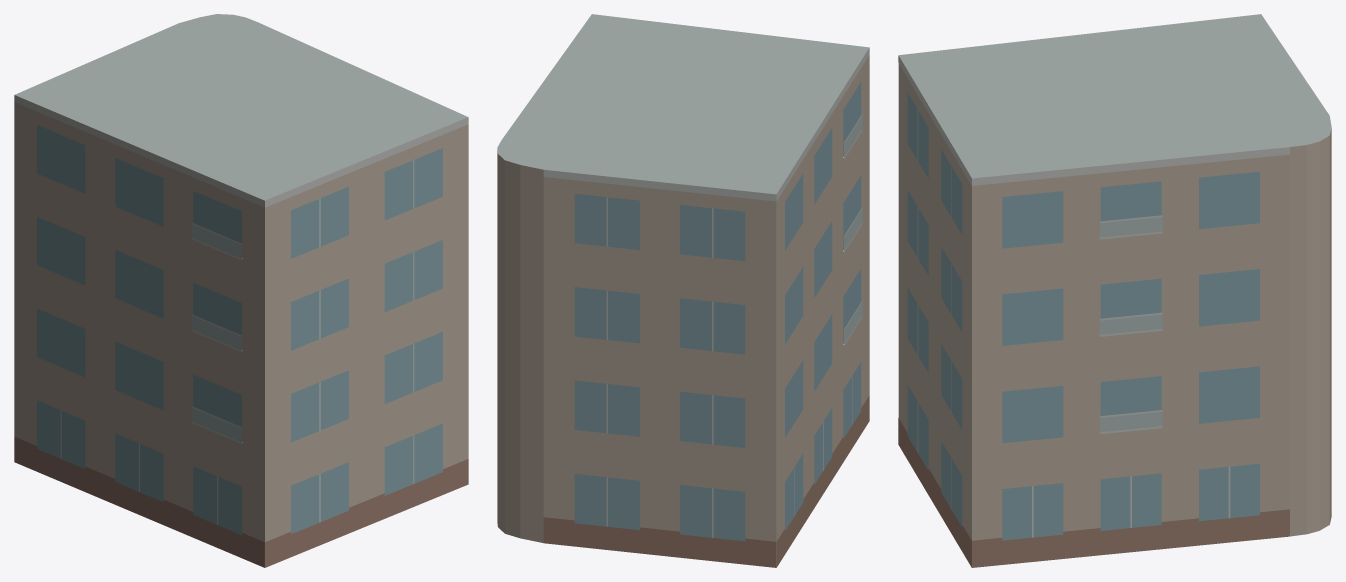
The model's file is survey-upis-32997859.glb.
The picture shows the model from 3 angles, left to right: view 1: azimuth 30°, elevation 25°; view 2: azimuth 150°, elevation 25°; view 3: azimuth 270°, elevation 25°; orthographic projection. The views are drawn at different scales.
Parts seen in each view (by area): view 1: survey-upis-32997859.tmp; view 2: survey-upis-32997859.tmp; view 3: survey-upis-32997859.tmp.
Part boxes in pixels (bbox=[...]): survey-upis-32997859.tmp: bbox=[14, 14, 468, 567]; survey-upis-32997859.tmp: bbox=[497, 14, 869, 567]; survey-upis-32997859.tmp: bbox=[898, 14, 1331, 567].
Bounding box in the file's own units: 11.61 × 12.8 × 12.91.
